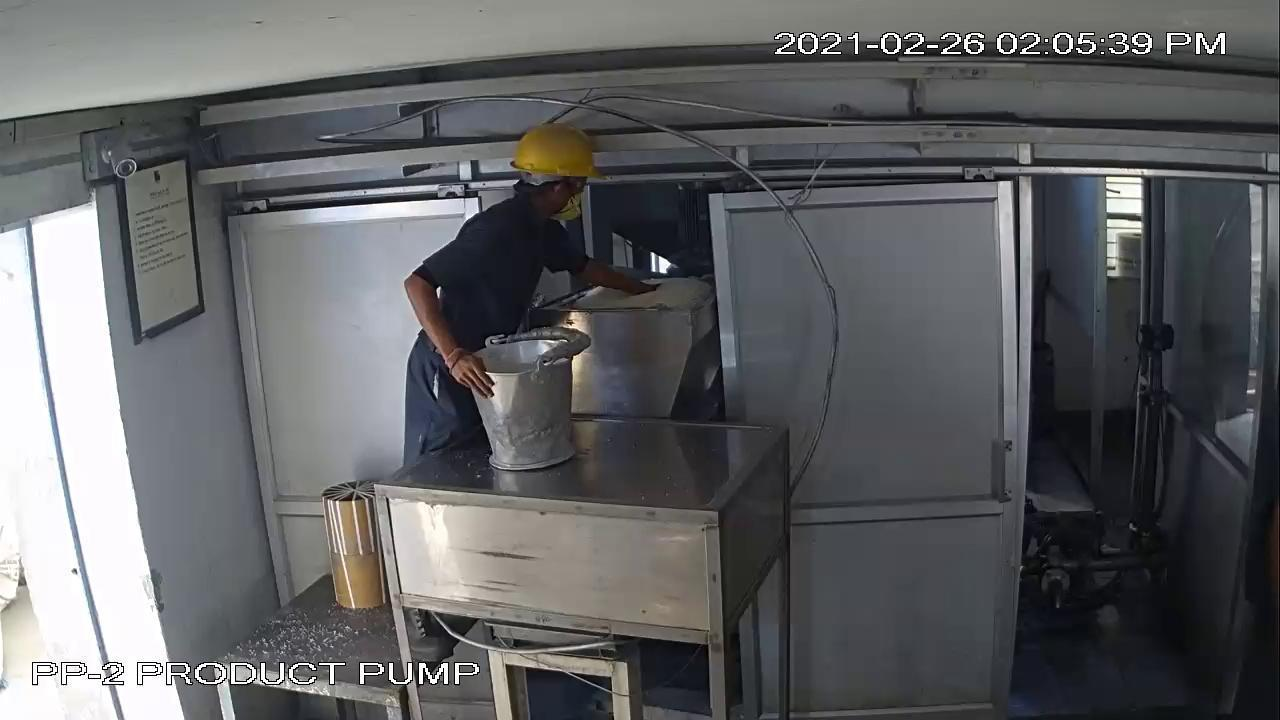helmet: (498, 112, 604, 187)
